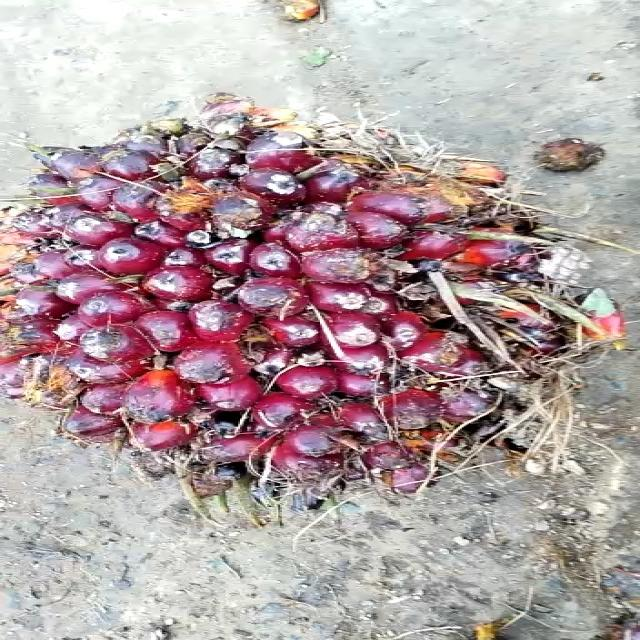palm oil: (0, 99, 624, 515)
